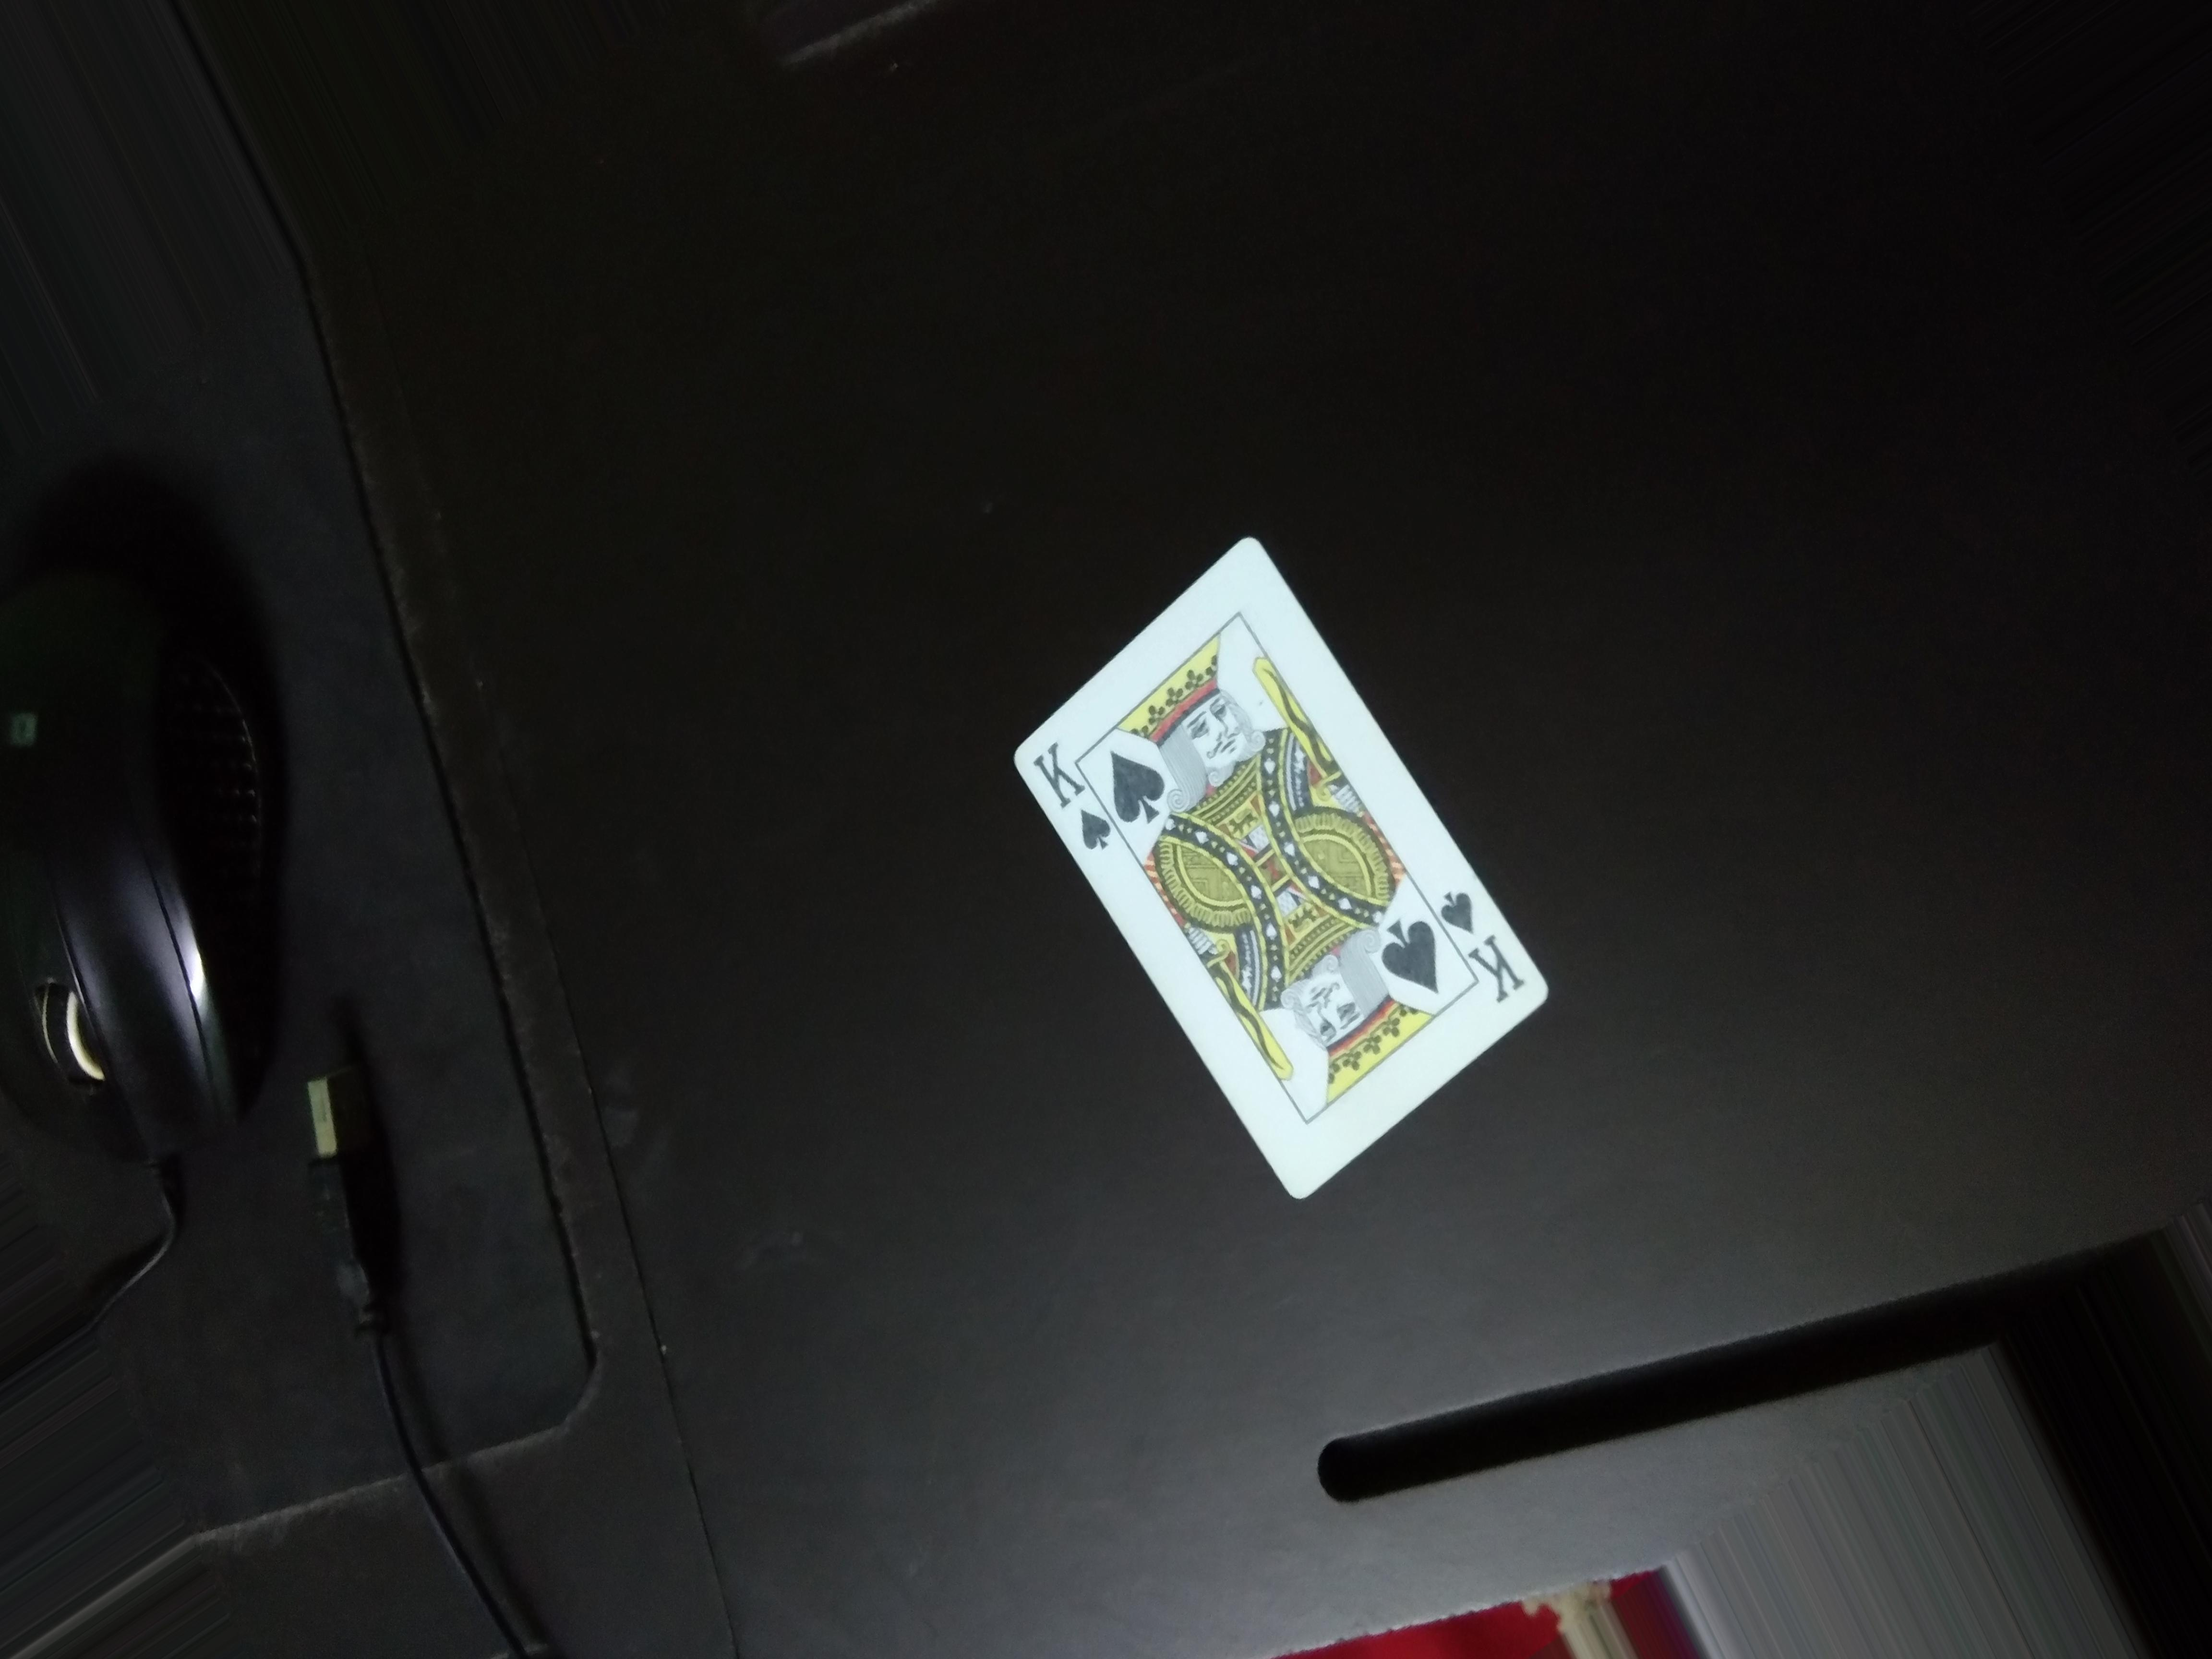KS: (1022, 741, 1106, 887)
